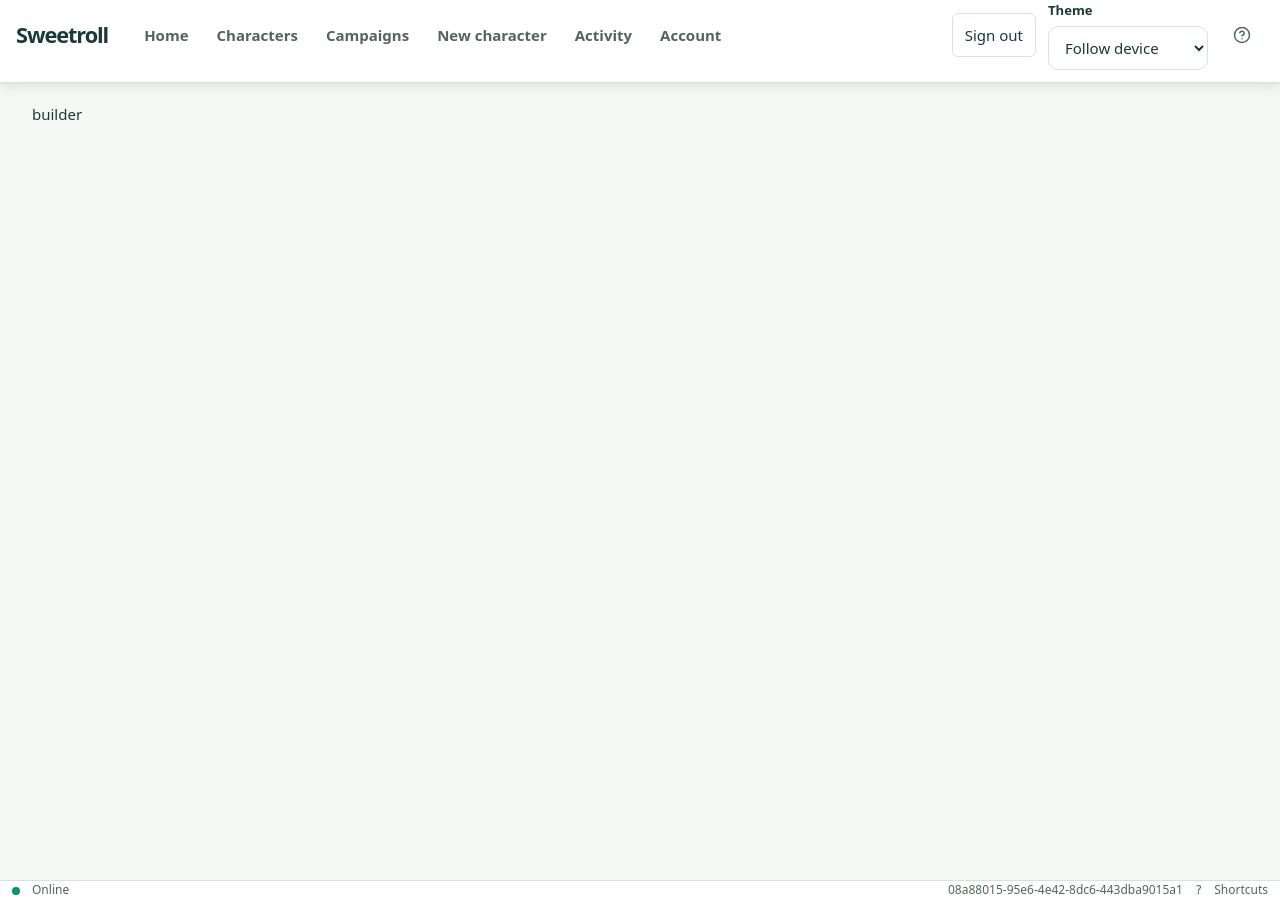
Scenario: AppShell › surfaces a retryable server-revocation failure and clears it on retry
Click the button "Sign out".
click(994, 35)  # box [952,13,1036,57]
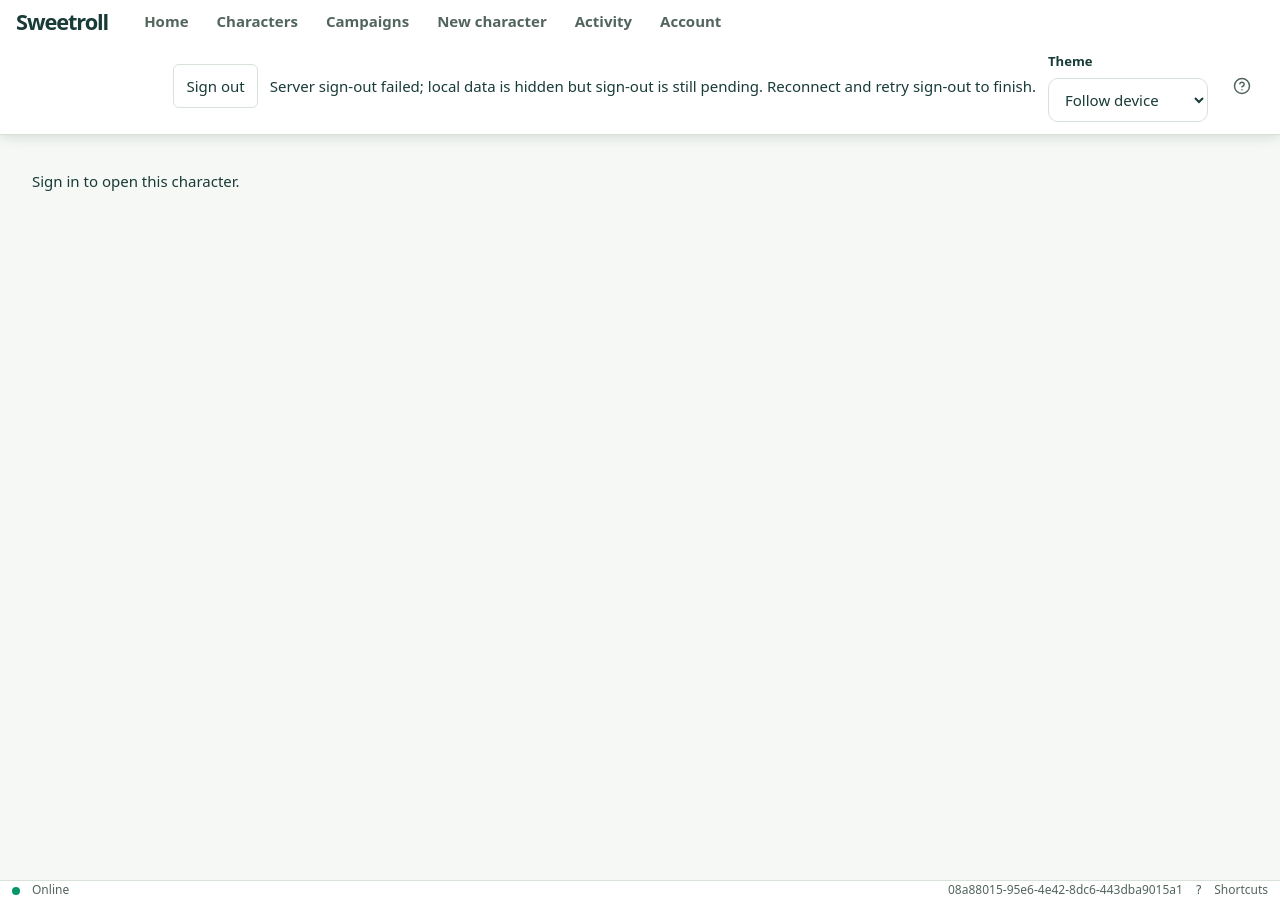
Click the button "Sign out".
click(216, 86)  # box [174,64,258,108]
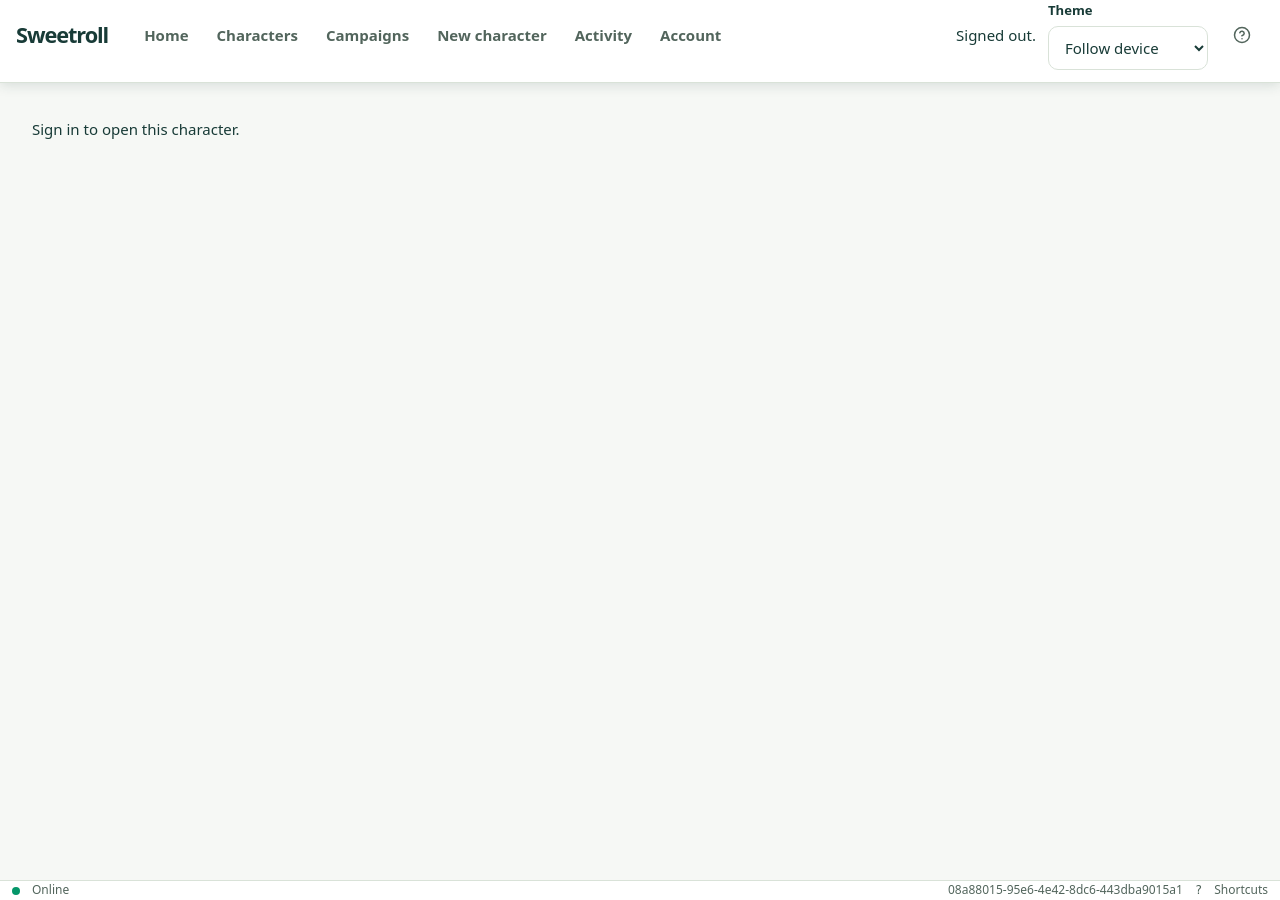
Expected: the text "Signed out." is shown, [956,24,1036,47]
